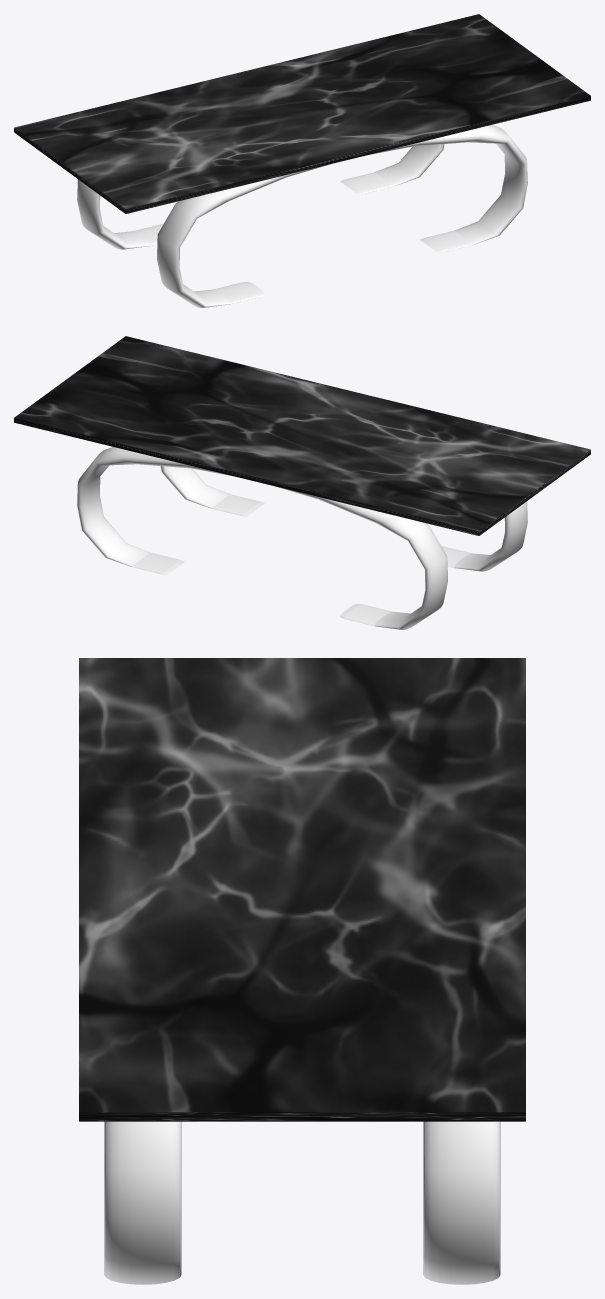
File: Table.fbx
3 renders of one model, top to bottom at view 1: azimuth 30°, elevation 25°; view 2: azimuth 150°, elevation 25°; view 3: azimuth 270°, elevation 25°, orthographic. The views are drawn at different scales.
Visible parts, largest first — view 1: Table; view 2: Table; view 3: Table.
Boxes of the visible parts, x1,y1,x2,y2 form: Table: (14, 14, 590, 307); Table: (14, 336, 590, 629); Table: (79, 658, 525, 1284).
Bounding box in the file's own units: 16.97 × 4.48 × 7.06.
Materials: 2 (1 with a texture image).
